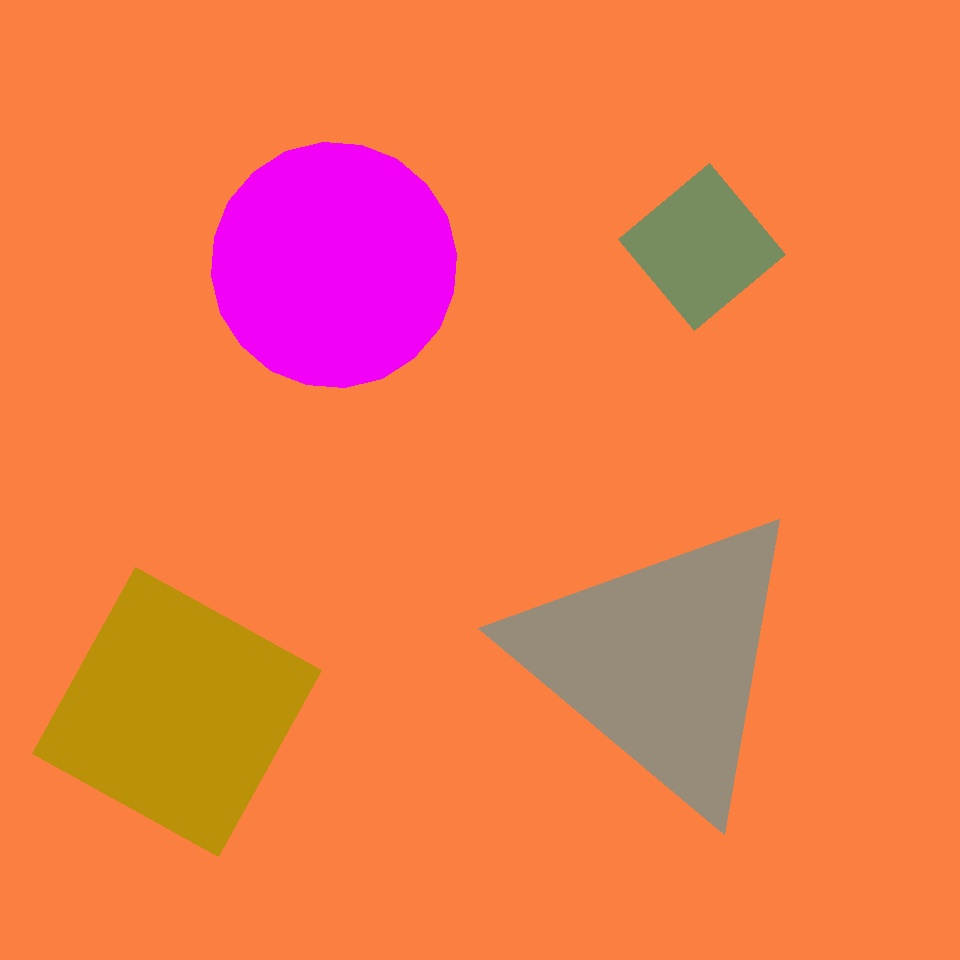circle: (511, 504, 812, 818), (142, 297, 453, 575)
square: (33, 568, 322, 856), (618, 163, 785, 330)
triangle: (89, 400, 460, 771), (212, 143, 456, 388)
